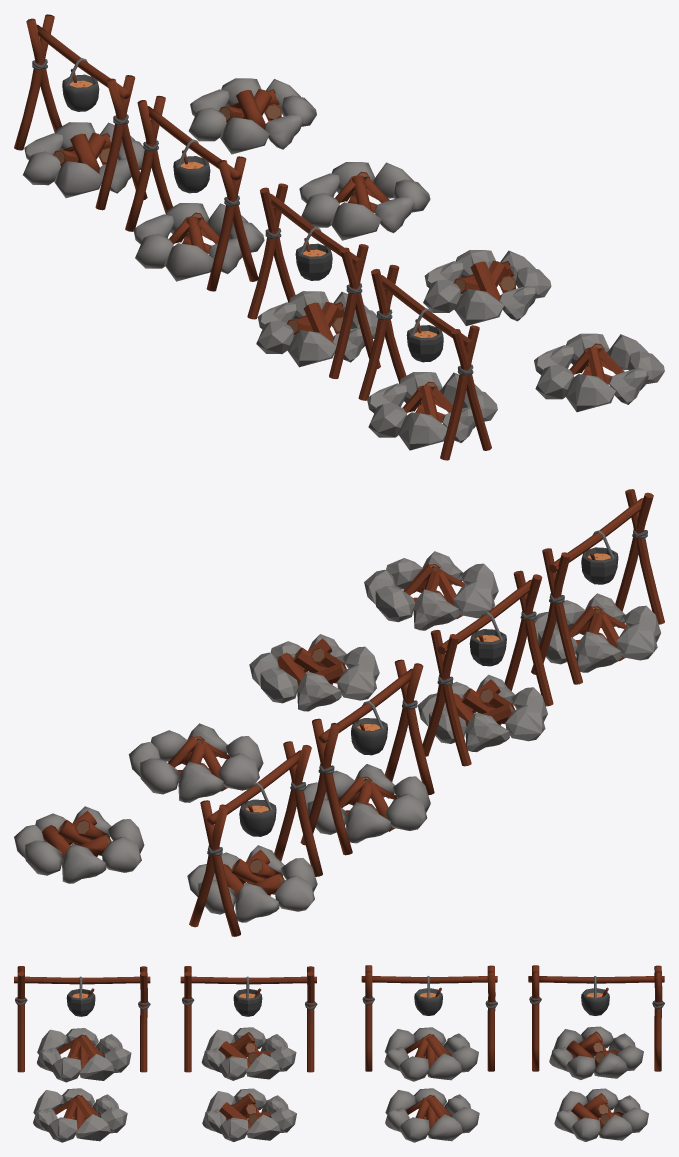
Rendered from campfire.glb.
The picture shows the model from 3 angles, top to bottom: view 1: azimuth 30°, elevation 25°; view 2: azimuth 150°, elevation 25°; view 3: azimuth 270°, elevation 25°; orthographic projection. The views are drawn at different scales.
Parts seen in each view (by area): view 1: Cookingpot_firewood, Cookingpot_firewood_Smooth, Cookingpot_Logs_Smooth, Cookingpot_Logs, Campfire_Firewood, Campfire_Firewood_Smooth, Campfire_Logs_Smooth, Campfire_Logs; view 2: Cookingpot_Logs_Smooth, Cookingpot_Logs, Cookingpot_firewood, Cookingpot_firewood_Smooth, Campfire_Firewood_Smooth, Campfire_Firewood, Campfire_Logs, Campfire_Logs_Smooth; view 3: Cookingpot_firewood, Cookingpot_firewood_Smooth, Cookingpot_Logs, Cookingpot_Logs_Smooth, Campfire_Firewood, Campfire_Firewood_Smooth, Campfire_Logs, Campfire_Logs_Smooth.
Boxes of the visible parts, <box> form: Cookingpot_firewood: <box>358,264,497,460</box>; Cookingpot_firewood_Smooth: <box>125,95,264,291</box>; Cookingpot_Logs_Smooth: <box>14,14,147,210</box>; Cookingpot_Logs: <box>247,183,380,378</box>; Campfire_Firewood: <box>534,333,664,412</box>; Campfire_Firewood_Smooth: <box>299,162,430,240</box>; Campfire_Logs_Smooth: <box>188,78,316,154</box>; Campfire_Logs: <box>423,250,551,325</box>; Cookingpot_Logs_Smooth: <box>187,741,322,936</box>; Cookingpot_Logs: <box>417,570,553,766</box>; Cookingpot_firewood: <box>531,489,664,684</box>; Cookingpot_firewood_Smooth: <box>300,659,434,855</box>; Campfire_Firewood_Smooth: <box>128,723,263,802</box>; Campfire_Firewood: <box>364,551,498,630</box>; Campfire_Logs: <box>249,634,379,711</box>; Campfire_Logs_Smooth: <box>14,806,144,883</box>; Cookingpot_firewood: <box>14,966,150,1082</box>; Cookingpot_firewood_Smooth: <box>361,965,497,1081</box>; Cookingpot_Logs: <box>180,966,317,1080</box>; Cookingpot_Logs_Smooth: <box>528,965,664,1079</box>; Campfire_Firewood: <box>33,1088,127,1142</box>; Campfire_Firewood_Smooth: <box>385,1088,479,1142</box>; Campfire_Logs: <box>202,1088,296,1141</box>; Campfire_Logs_Smooth: <box>554,1088,648,1141</box>.
Size of the model in its own units: 6.55 by 2.86 by 17.39.
